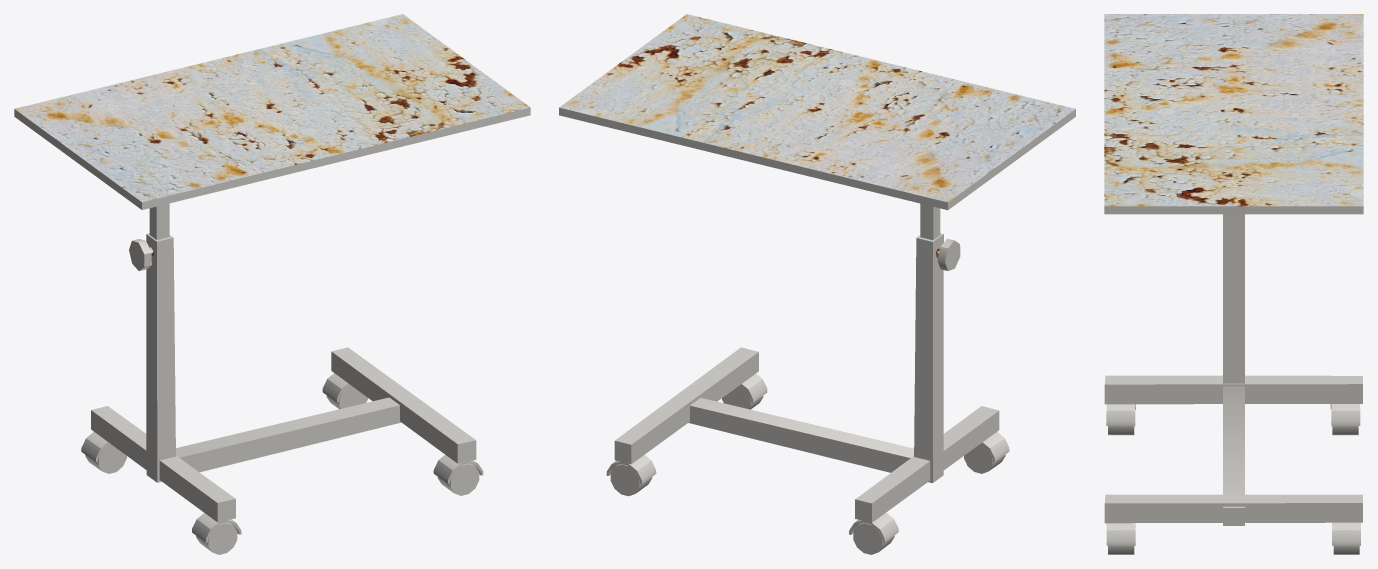
The model's file is STOLIKNAKOLESAH.fbx.
3 views of the same model, side by side, from view 1: azimuth 30°, elevation 25°; view 2: azimuth 150°, elevation 25°; view 3: azimuth 270°, elevation 25° (orthographic).
Parts seen in each view (by area): view 1: STOLIK(NAKOLOSEH); view 2: STOLIK(NAKOLOSEH); view 3: STOLIK(NAKOLOSEH).
Boxes of the visible parts, x1=… form: STOLIK(NAKOLOSEH): x1=14, y1=14, x2=530, y2=554; STOLIK(NAKOLOSEH): x1=559, y1=14, x2=1075, y2=554; STOLIK(NAKOLOSEH): x1=1104, y1=14, x2=1363, y2=554.
Size of the model in its own units: 414 by 380 by 236.
1 material, 1 textured.
